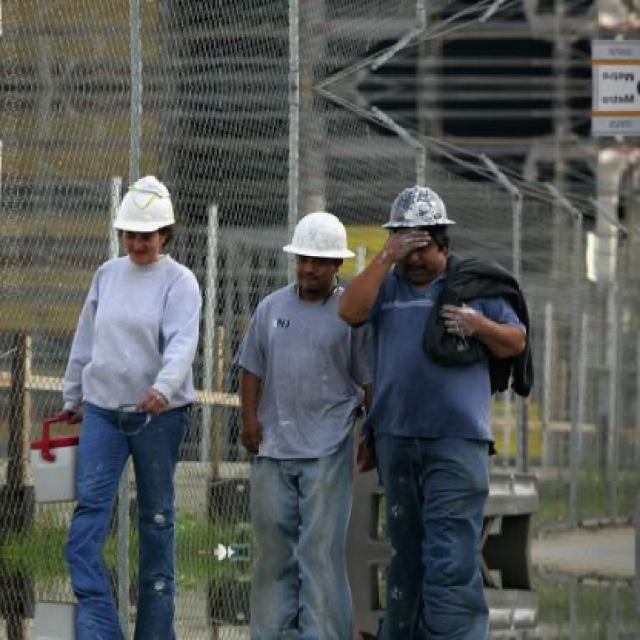helmet: (376, 171, 462, 285), (102, 164, 182, 278), (274, 202, 360, 308)
